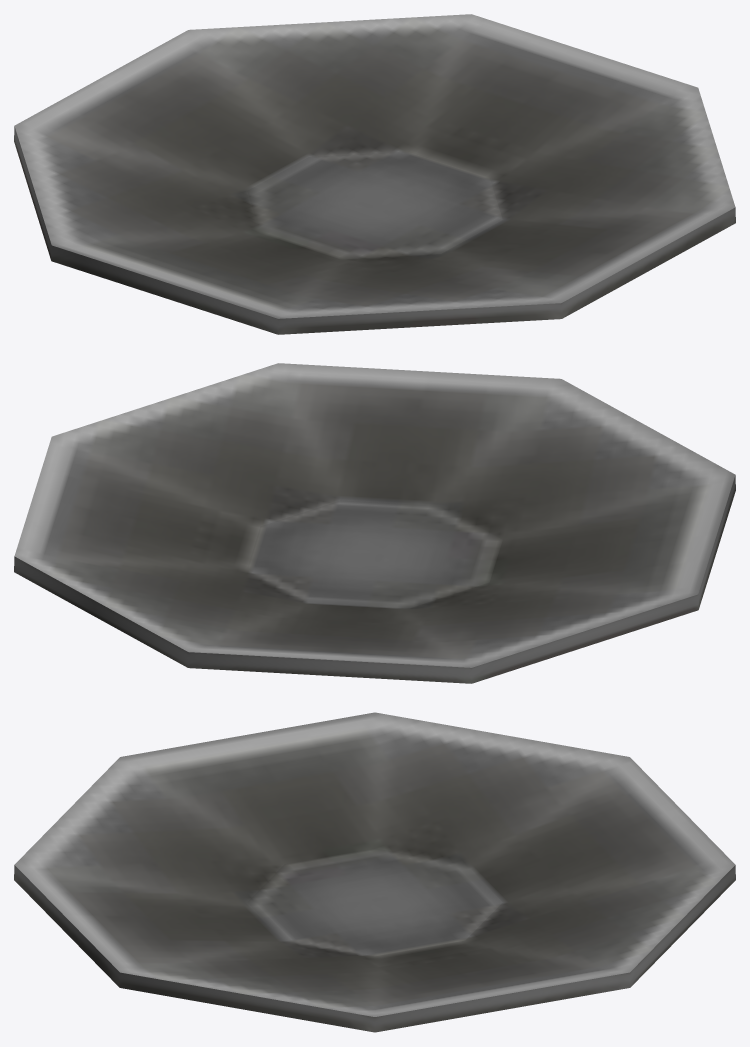
File: Plate_01.glb
3 renders of one model, top to bottom at view 1: azimuth 30°, elevation 25°; view 2: azimuth 150°, elevation 25°; view 3: azimuth 270°, elevation 25°, orthographic. The views are drawn at different scales.
Parts seen in each view (by area): view 1: Plate_01; view 2: Plate_01; view 3: Plate_01.
Part boxes in pixels (x1,y1,x2,y2): Plate_01: (14, 14, 735, 334); Plate_01: (14, 363, 735, 683); Plate_01: (14, 712, 735, 1032).
Bounding box in the file's own units: 1.14 × 0.1186 × 1.14.
1 material, 1 textured.
